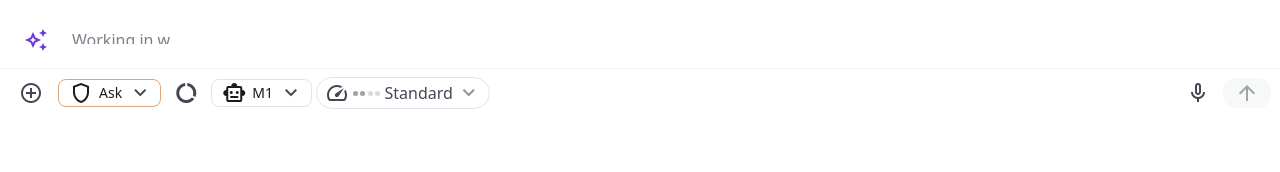
Test case: ChatInput @ file mentions (GB P2-10b) › filters as the token grows and inserts the relative path on Enter
Type "check " into the text box named "Message" at (668, 28), box [64,12,1272,44]
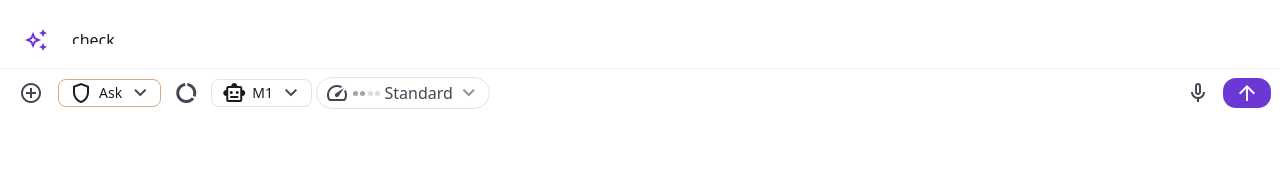
Replace the text in the text box named "Message" with "check @gui" at (668, 28), box [64,12,1272,44]
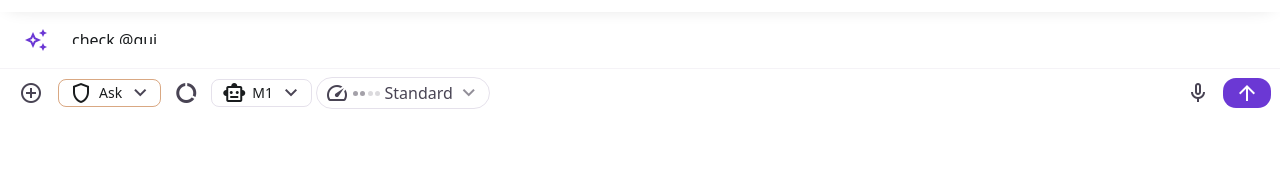
Press Enter in the text box named "Message", box [64,12,1272,44]
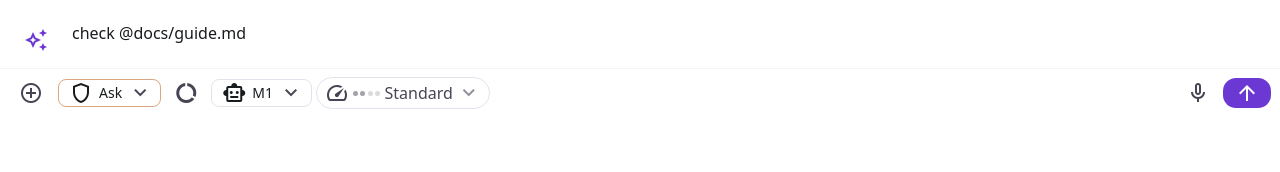
Now the text box named "Message" holds "check @docs/guide.md ", box [64,12,1272,44]
